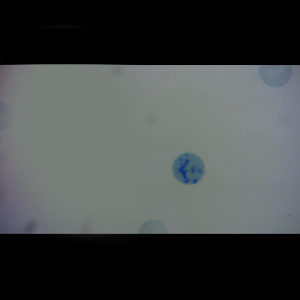aggregate reticulocyte: (171, 152, 206, 185)
